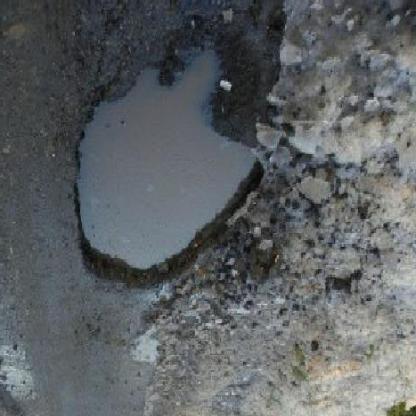pothole: (71, 50, 271, 294), (326, 255, 367, 295), (297, 177, 338, 210)
